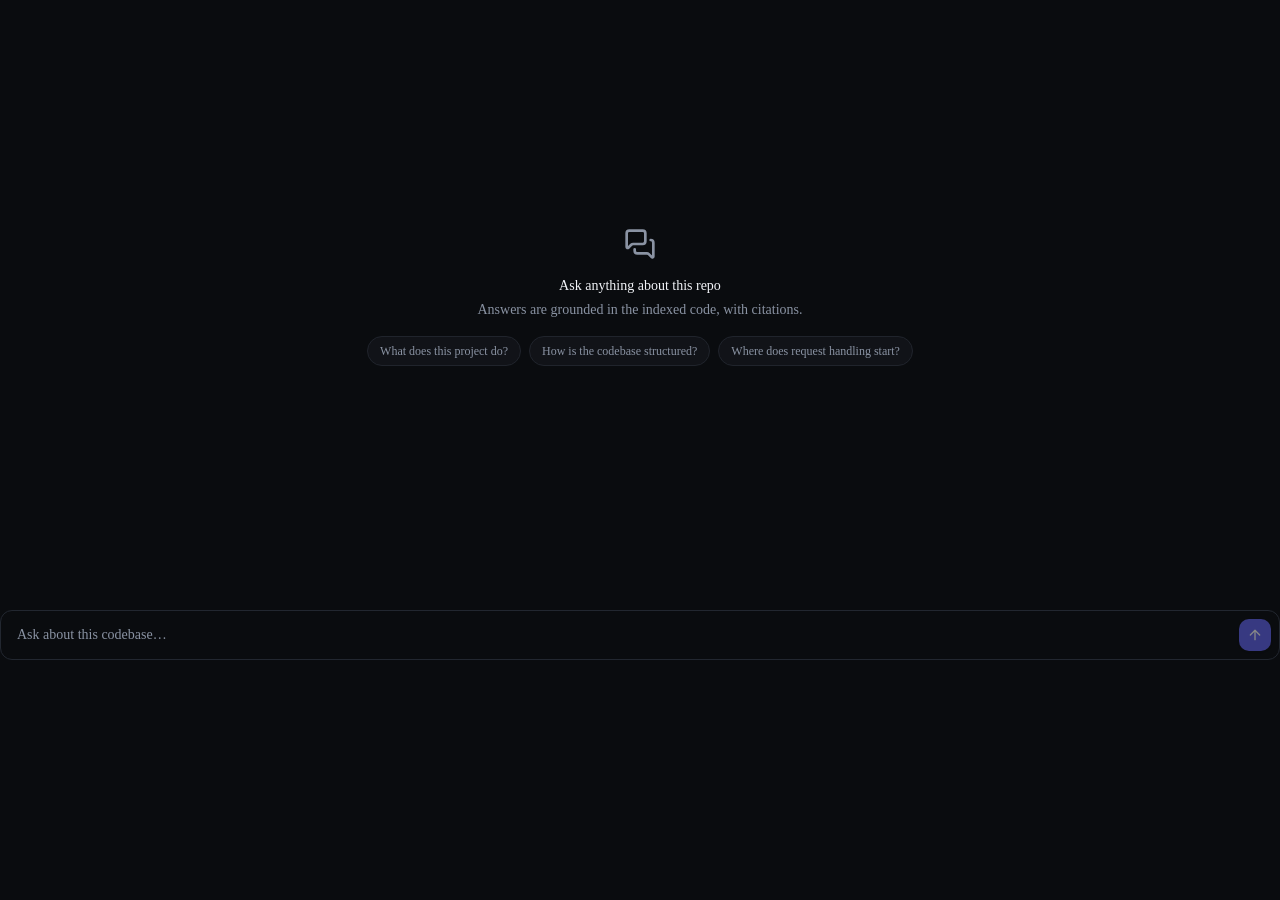
Test: ChatPanel › renders an error bubble when the request fails
This screenshot has width=1280, height=900.
Type "hi" into the text box named "ask a question". click: (620, 635)
box: [9, 619, 1231, 651]
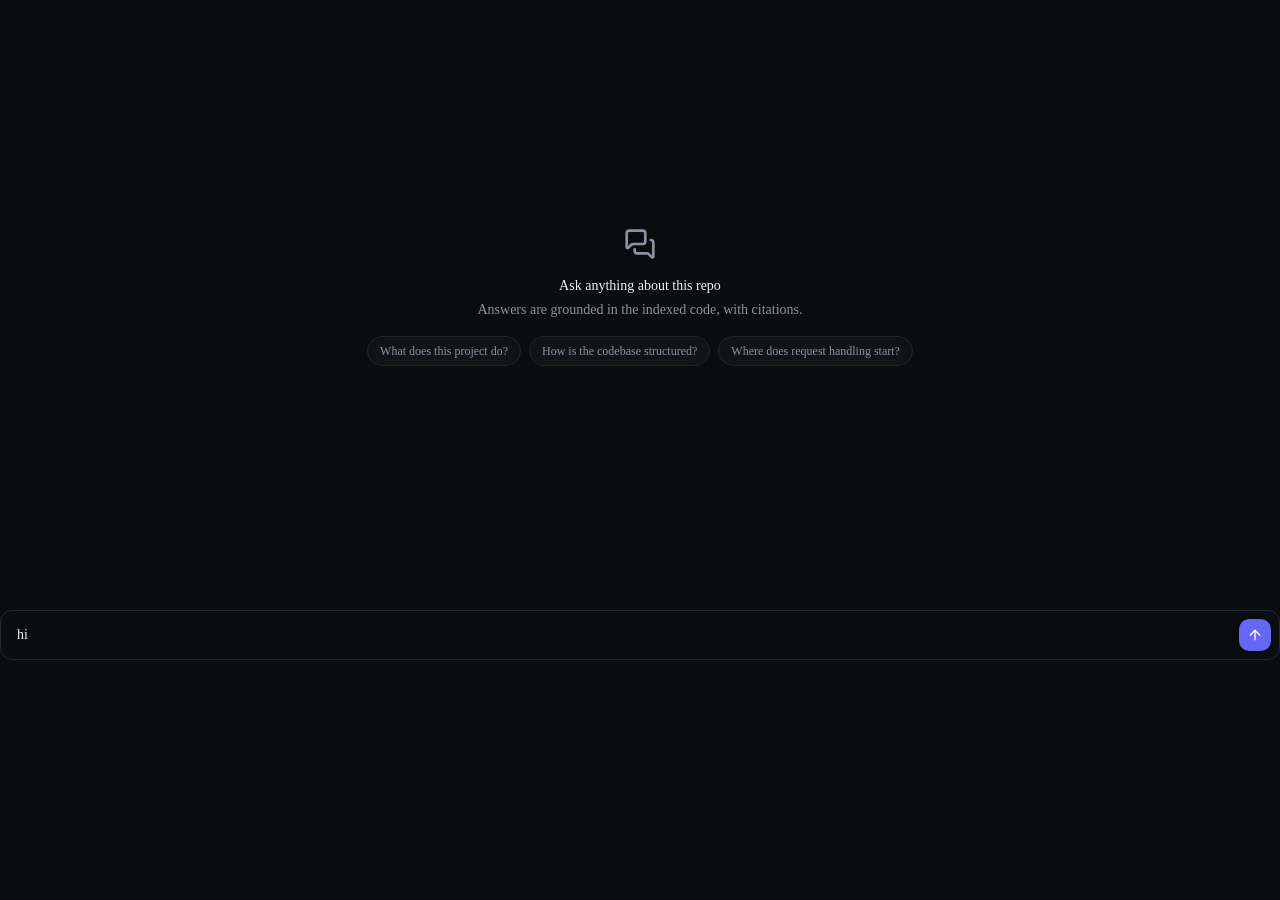
Press Enter in the text box named "ask a question", box [9, 619, 1231, 651]
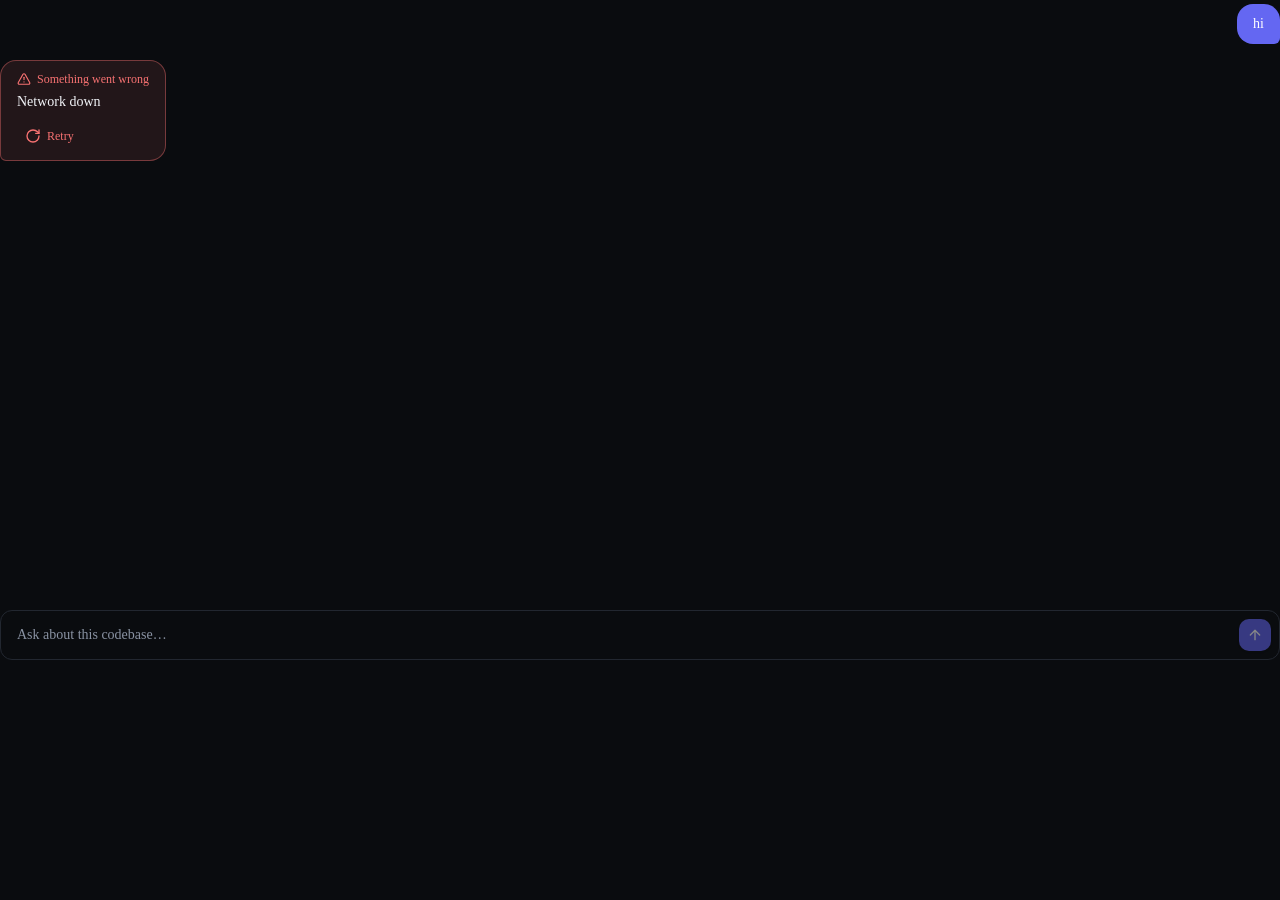
Check: the text "Network down" is shown, box [17, 94, 101, 109]
Check: the text "Something went wrong" is shown, box [17, 71, 149, 87]
